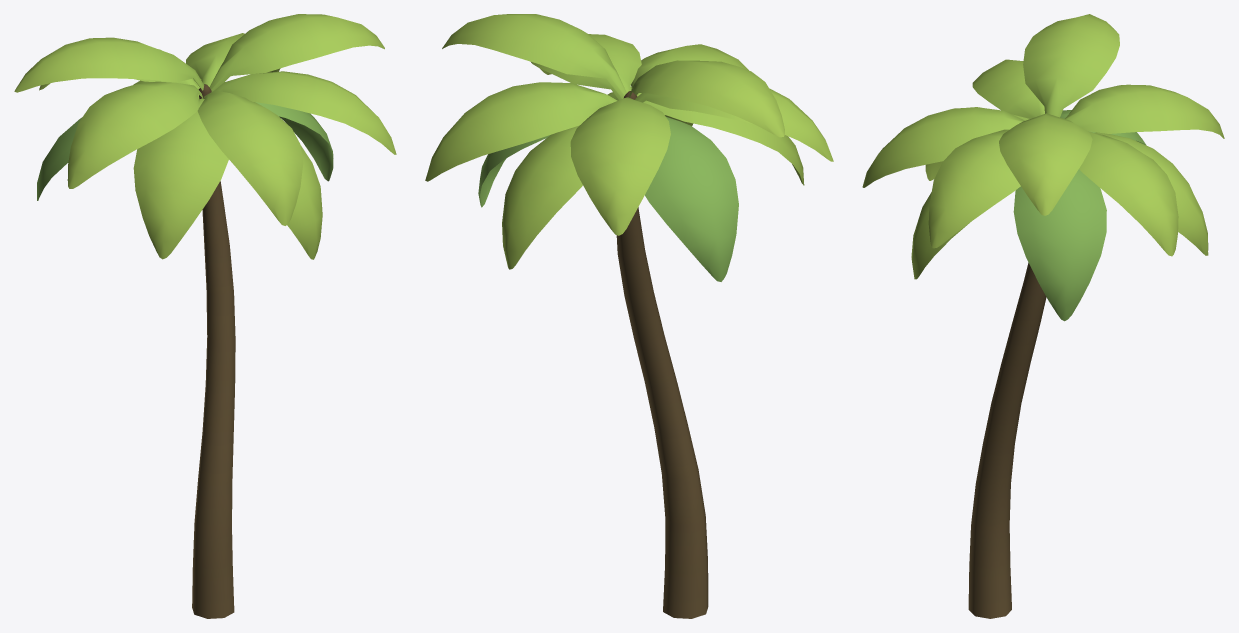
Rendered from PlamTree_1_fbx.FBX.
The picture shows the model from 3 angles, left to right: view 1: azimuth 30°, elevation 25°; view 2: azimuth 150°, elevation 25°; view 3: azimuth 270°, elevation 25°; orthographic projection. The views are drawn at different scales.
Visible parts, largest first — view 1: Plane002, Leaf039, Leaf046, Leaf043, Leaf044, Leaf045, Leaf049, Leaf042, Leaf041, Leaf048, Leaf038; view 2: Plane002, Leaf038, Leaf047, Leaf048, Leaf044, Leaf040, Leaf045, Leaf043, Leaf039, Leaf049, Leaf046, Leaf041; view 3: Plane002, Leaf041, Leaf045, Leaf049, Leaf048, Leaf044, Leaf047, Leaf046, Leaf043, Leaf040, Leaf042.
Part boxes in pixels (x1,y1,x2,y2): Plane002: (192,84,235,618); Leaf039: (133,98,228,259); Leaf046: (197,90,303,225); Leaf043: (67,81,202,188); Leaf044: (209,14,384,91); Leaf045: (14,37,204,92); Leaf049: (215,71,396,154); Leaf042: (287,145,322,259); Leaf041: (256,102,333,181); Leaf048: (186,33,280,86); Leaf038: (37,117,82,200); Plane002: (616,91,708,618); Leaf038: (645,117,738,281); Leaf047: (570,97,670,235); Leaf048: (425,82,617,181); Leaf044: (442,14,626,98); Leaf040: (502,126,582,269); Leaf045: (629,60,784,137); Leaf043: (635,88,833,161); Leaf039: (643,100,804,185); Leaf049: (531,34,641,99); Leaf046: (631,44,748,96); Leaf041: (478,135,550,207); Plane002: (968,262,1046,618); Leaf041: (1013,169,1106,321); Leaf045: (1023,14,1119,117); Leaf049: (928,129,1020,248); Leaf048: (1079,131,1178,256); Leaf044: (999,113,1092,215); Leaf047: (1065,84,1224,138); Leaf046: (862,107,1024,187); Leaf043: (972,59,1044,118); Leaf040: (1094,132,1208,255); Leaf042: (911,192,969,279).
Size of the model in its own units: 348 by 319 by 534.
